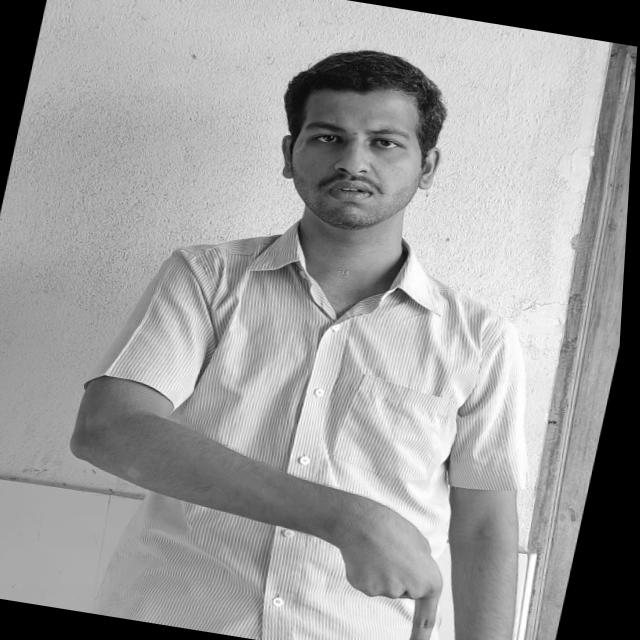Now: (334, 518, 462, 640)
